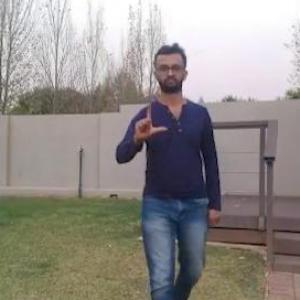land_hand: (131, 98, 169, 142)
